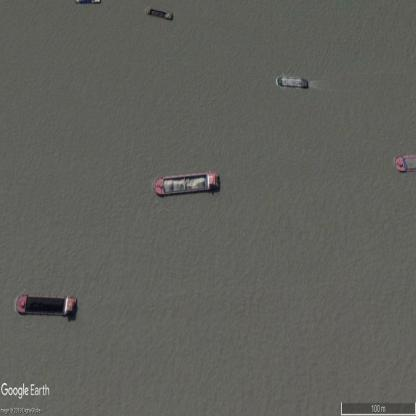ship: (14, 292, 78, 319), (153, 176, 220, 197), (274, 74, 309, 90)
